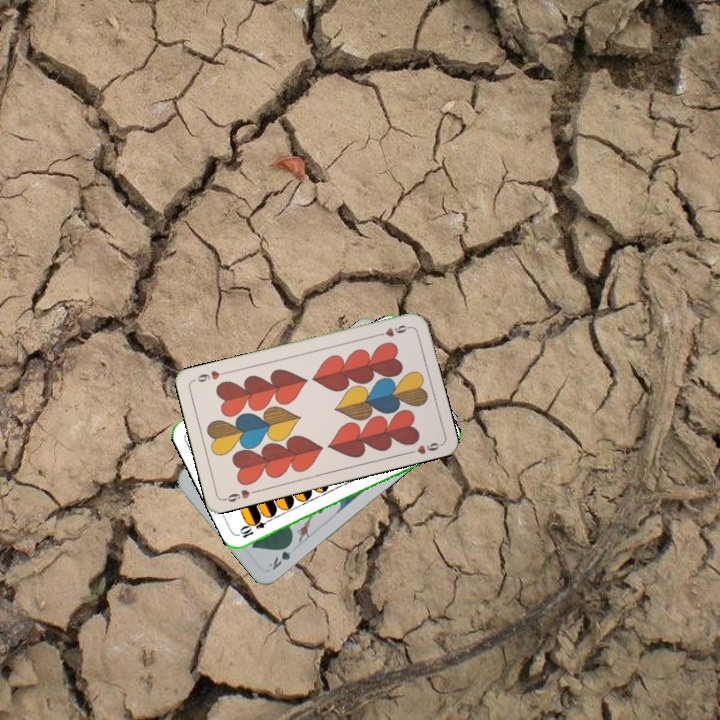E10: (237, 514, 275, 541)
GK: (264, 539, 295, 573)
H9: (220, 485, 260, 505), (373, 321, 413, 339)
